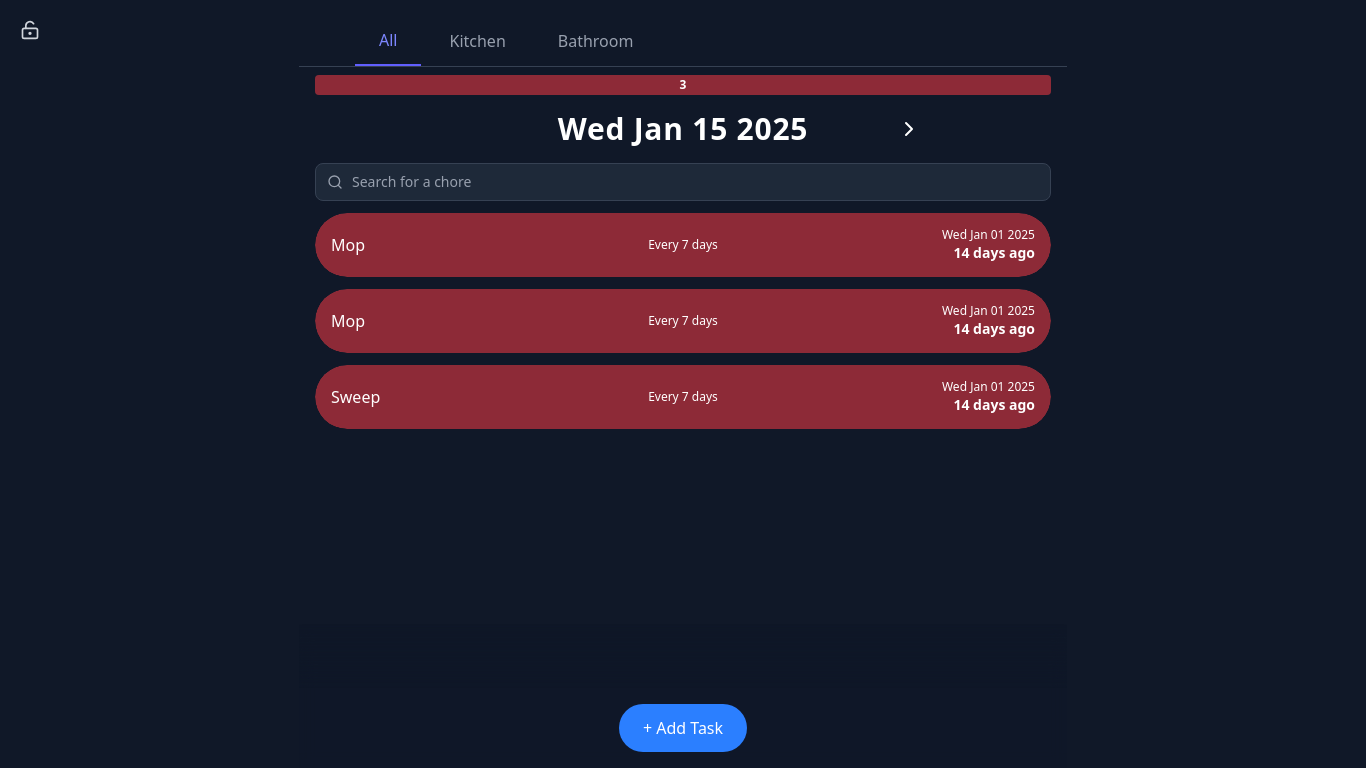
chore-name search filter (F9) › keeps the active query intact across a room switch
The image size is (1366, 768).
Expected: the number of elements with test id "chore-bar" is 3, x1=315 y1=213 x2=1051 y2=277; x1=315 y1=289 x2=1051 y2=353; x1=315 y1=365 x2=1051 y2=429
In the field with placeholder "Search for a chore": (683, 182) x1=315 y1=163 x2=1051 y2=201, type "mop"
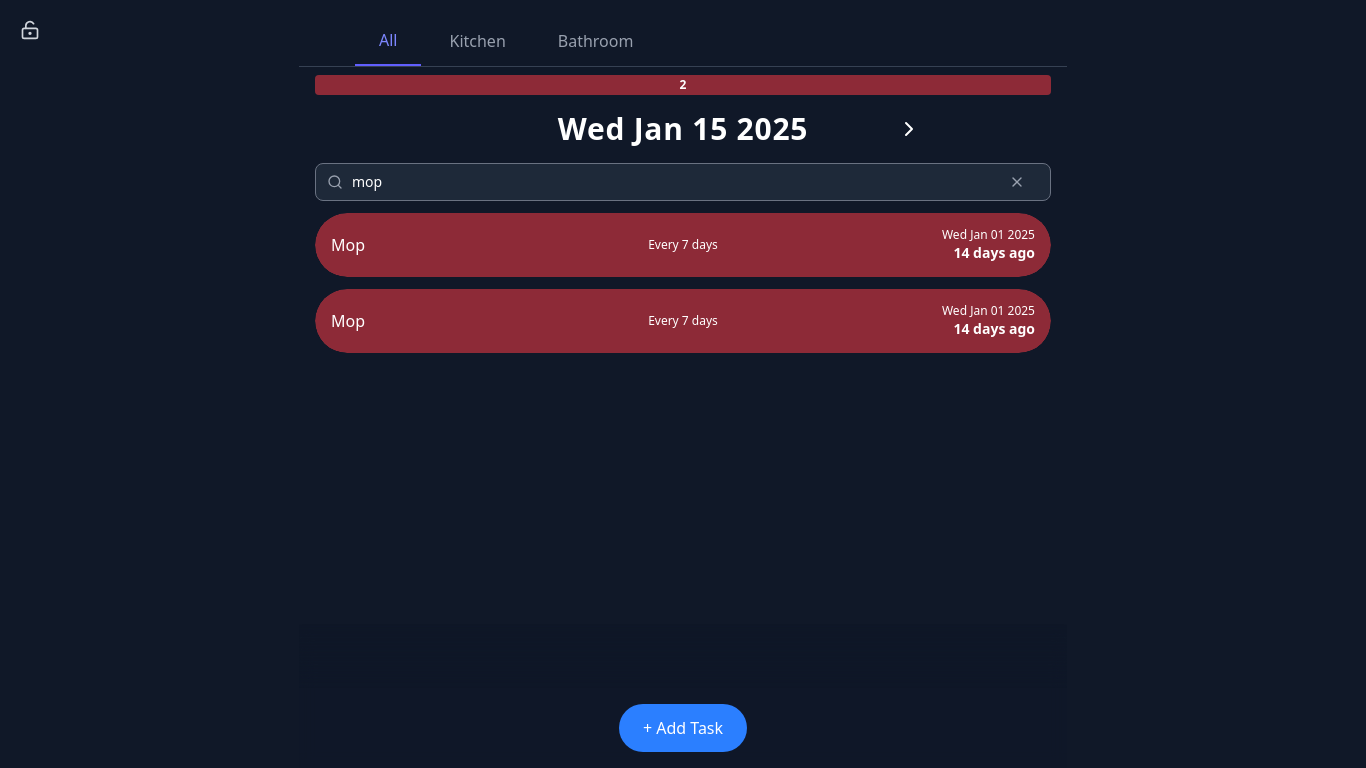
Click the button "Bathroom": (596, 41) x1=534 y1=16 x2=658 y2=66
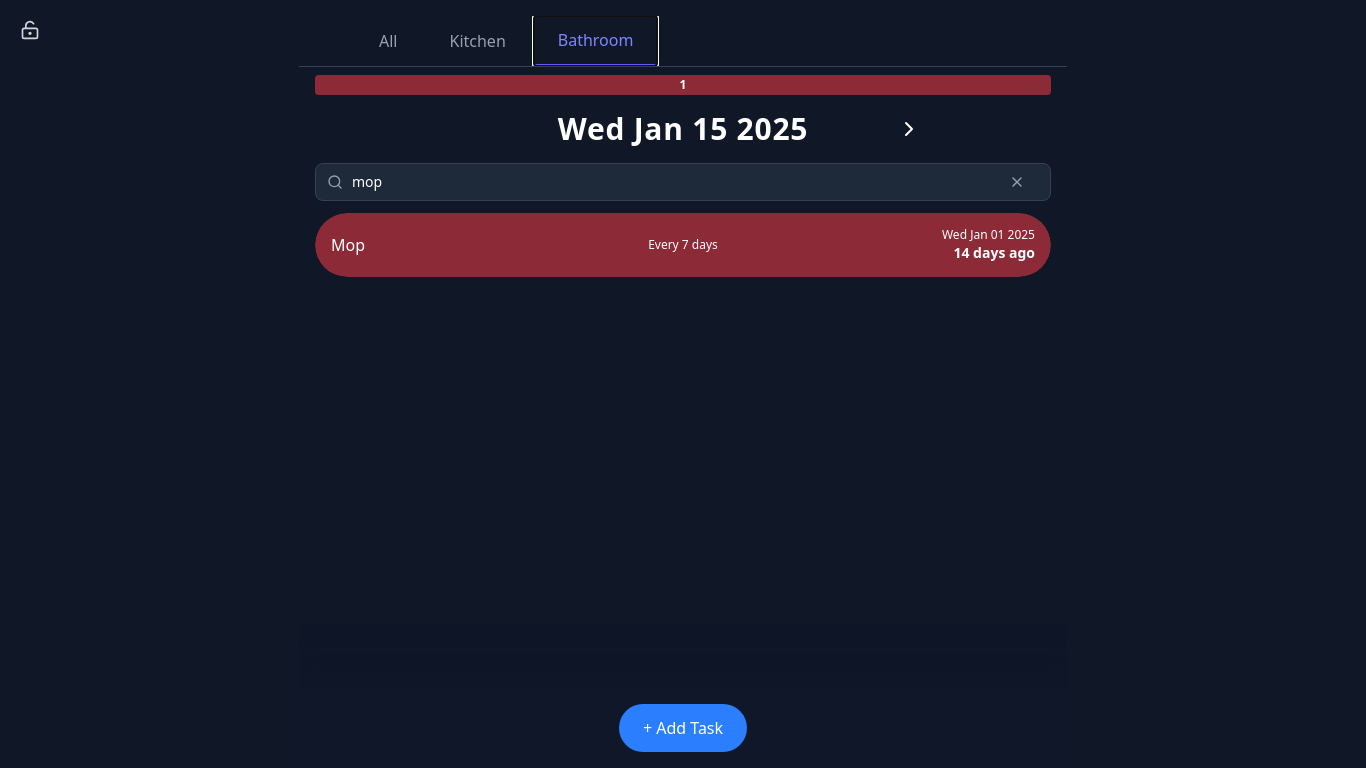
Expected: the text "Sweep" is not shown
Expected: the number of elements with test id "chore-bar" is 1, x1=315 y1=213 x2=1051 y2=277
